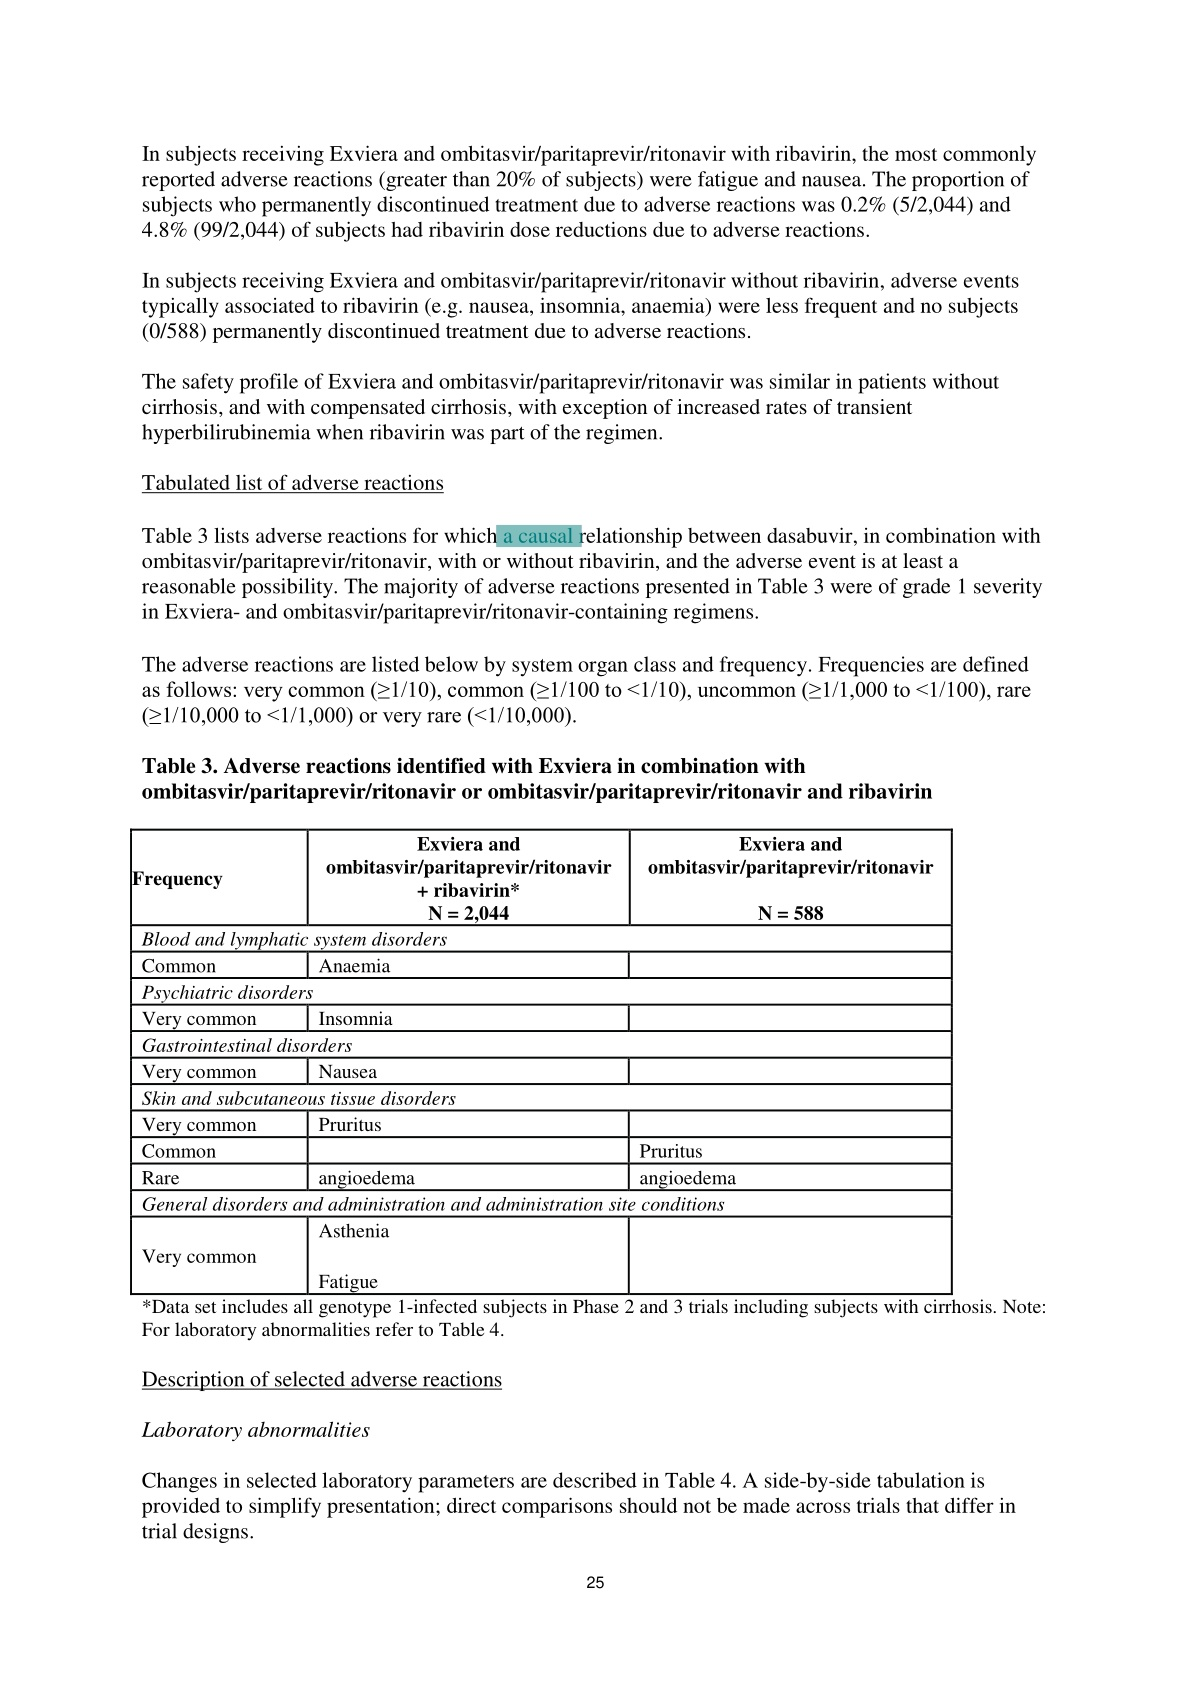merged_cells: (129, 828, 954, 1296)
